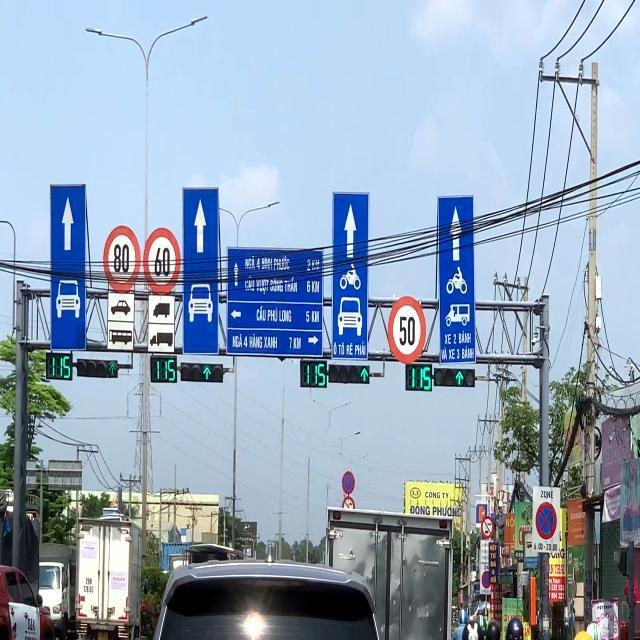P-127: (389, 296, 425, 364)
